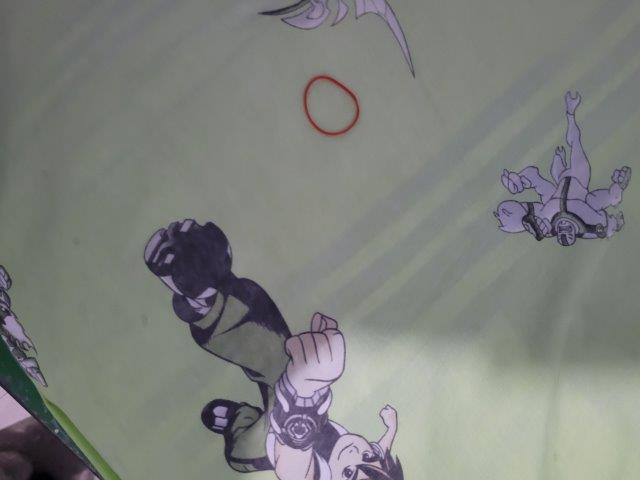karet: (304, 75, 360, 137)
